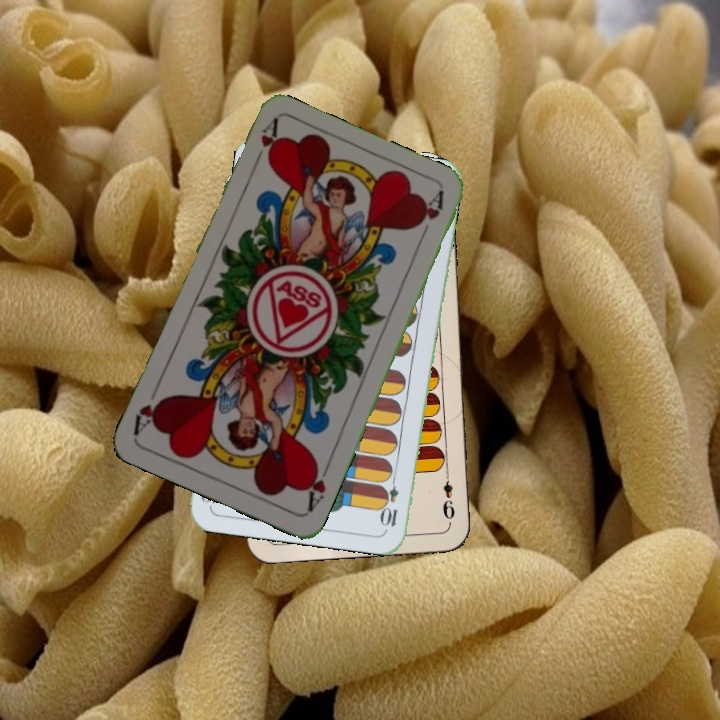E10: (380, 470, 402, 529)
E9: (438, 466, 458, 526)
HA: (247, 116, 282, 173), (300, 458, 334, 515)
